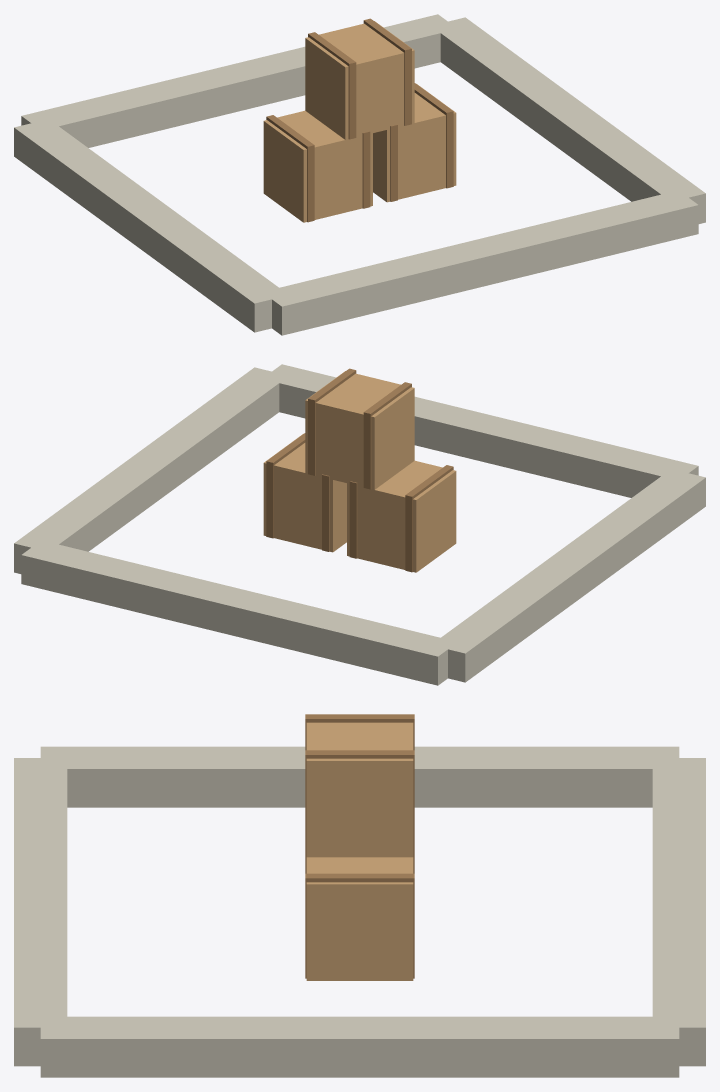
Rendered from construction-foundation.glb.
3 renders of one model, top to bottom at view 1: azimuth 30°, elevation 25°; view 2: azimuth 150°, elevation 25°; view 3: azimuth 270°, elevation 25°, orthographic. The views are drawn at different scales.
Visible parts, largest first — view 1: construction-foundation; view 2: construction-foundation; view 3: construction-foundation.
Boxes of the visible parts, x1,y1,x2,y2 form: construction-foundation: [14, 14, 705, 335]; construction-foundation: [14, 364, 705, 685]; construction-foundation: [14, 714, 705, 1077].
Bounding box in the file's own units: 6.5 × 2.04 × 6.5.
